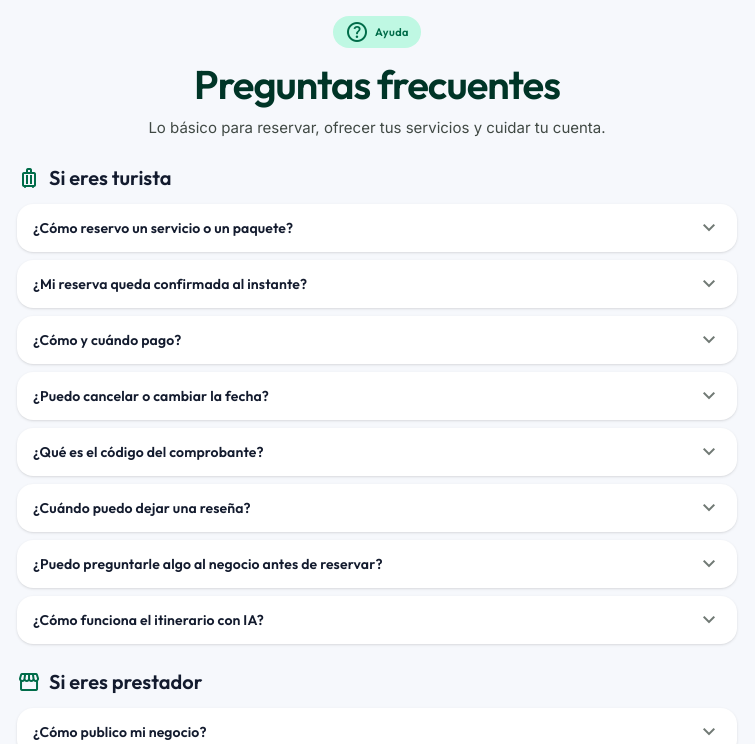
Test: Ayuda: mensajes con el negocio › si no llegó la configuración no inventa el número de fotos
Click the heading "¿Puedo preguntarle algo al negocio antes de reservar?".
click(377, 564)  # box top-left (33, 550), bottom-right (721, 578)
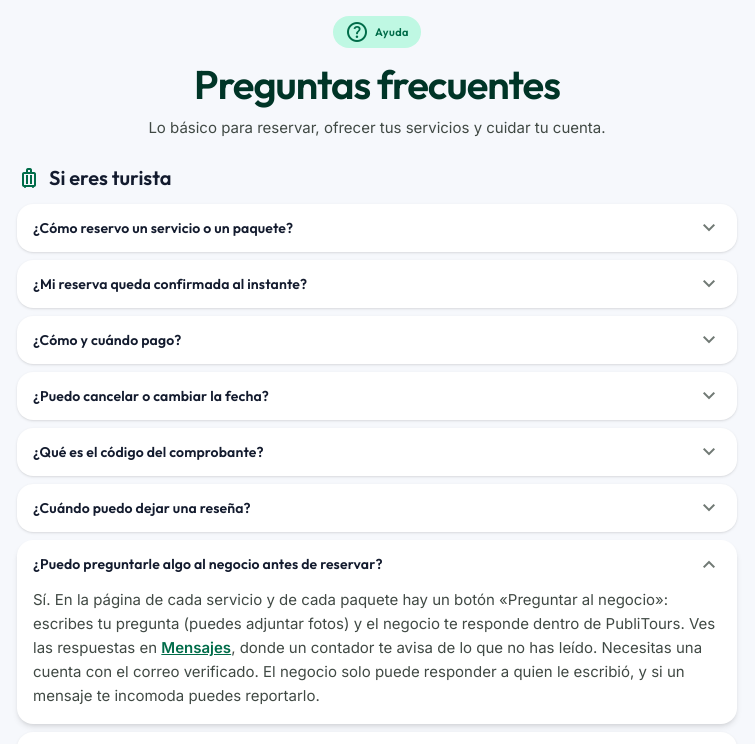
Now the text "botón «Preguntar al negocio»" shows "puedes adjuntar fotos)", box top-left (17, 588), bottom-right (737, 724)
